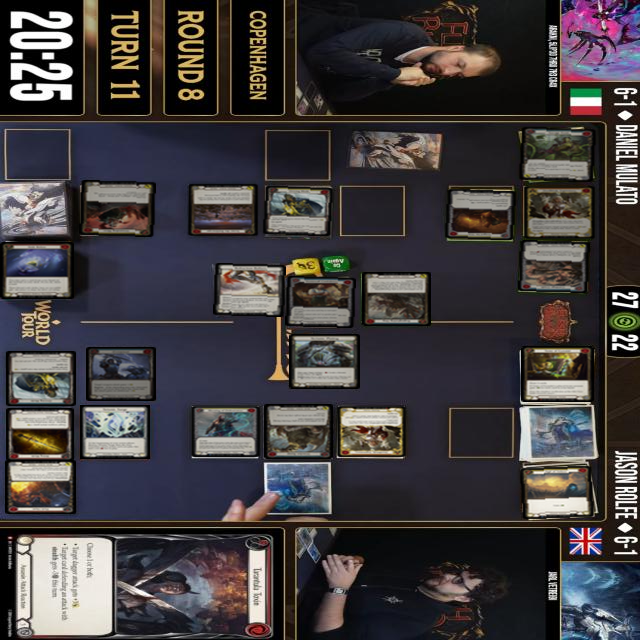Biting_Blade_WTR135: (6, 408, 74, 461)
Blessing_of_Deliverance_WTR055: (189, 406, 261, 459)
Cartilage_Crush_WTR062: (517, 240, 589, 293)
Driving_Blade_WTR145: (261, 186, 334, 238)
Driving_Blade_WTR146: (5, 351, 76, 407)
Forged_for_War_WTR046: (443, 189, 517, 242)
Overpower_WTR125: (86, 347, 156, 401)
Pack_Hunt_WTR023: (4, 461, 76, 515)
Refraction_Bolters_WTR117: (212, 263, 285, 317)
Regurgitating_Slog_WTR199: (361, 272, 430, 327)
Savage_Feast_WTR016: (517, 126, 596, 184)
Scour_the_Battlescape_WTR194: (186, 183, 258, 237)
Seismic_Surge_WTR075: (79, 406, 149, 460)
Sigil_of_Solace_WTR174: (519, 465, 595, 521)
Sink_Below_WTR215: (0, 243, 74, 300)
Steelblade_Supremacy_WTR119: (522, 186, 595, 241), (335, 406, 406, 459)
Stonewall_Confidence_WTR074: (284, 276, 356, 329)
Tectonic_Plating_WTR041: (288, 334, 360, 390)
Tome_of_Fyendal_WTR160: (520, 346, 593, 402)
Wounding_Blow_WTR204: (78, 181, 156, 238)
Wrecker_Romp_WTR031: (263, 405, 333, 460)
